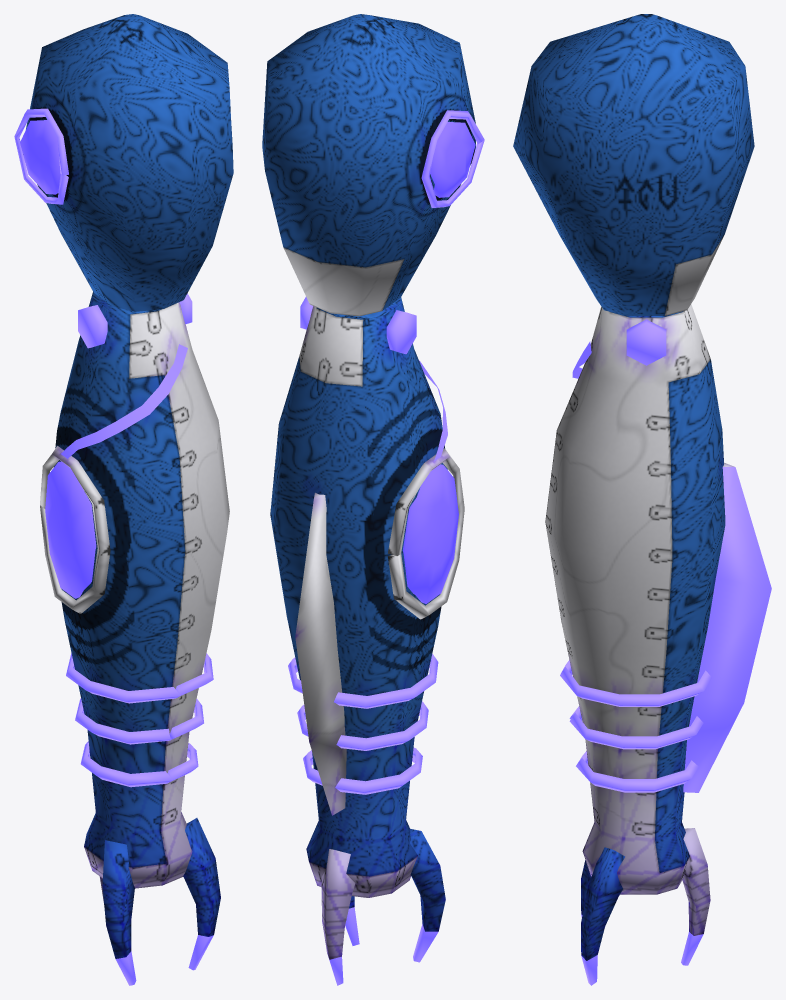
Rendered from LeftPlasmaCannonArmZ.glb.
The picture shows the model from 3 angles, left to right: view 1: azimuth 30°, elevation 25°; view 2: azimuth 150°, elevation 25°; view 3: azimuth 270°, elevation 25°; orthographic projection.
Visible parts, largest first — view 1: LeftPlasmaCannonArmZ_Fore, LeftPlasmaCannonArmZ_Upper; view 2: LeftPlasmaCannonArmZ_Fore, LeftPlasmaCannonArmZ_Upper; view 3: LeftPlasmaCannonArmZ_Fore, LeftPlasmaCannonArmZ_Upper.
Boxes of the visible parts, x1=… form: LeftPlasmaCannonArmZ_Fore: x1=40, y1=292, x2=229, y2=985; LeftPlasmaCannonArmZ_Upper: x1=14, y1=14, x2=233, y2=311; LeftPlasmaCannonArmZ_Fore: x1=270, y1=297, x2=464, y2=985; LeftPlasmaCannonArmZ_Upper: x1=262, y1=14, x2=484, y2=316; LeftPlasmaCannonArmZ_Fore: x1=545, y1=304, x2=771, y2=985; LeftPlasmaCannonArmZ_Upper: x1=513, y1=14, x2=754, y2=315.
Bounding box in the file's own units: 4.38 × 22.74 × 5.62.
Materials: 5 (3 with a texture image).
